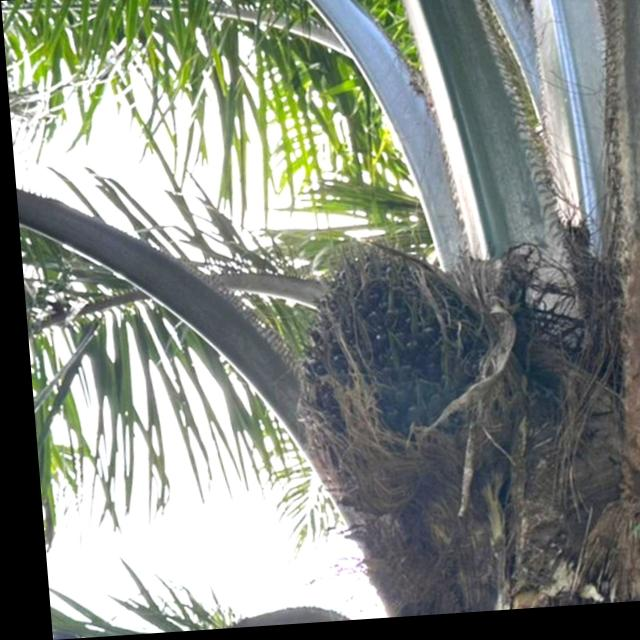almost: (273, 224, 502, 498)
